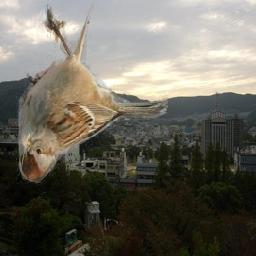Sparrow: (14, 4, 169, 184)
